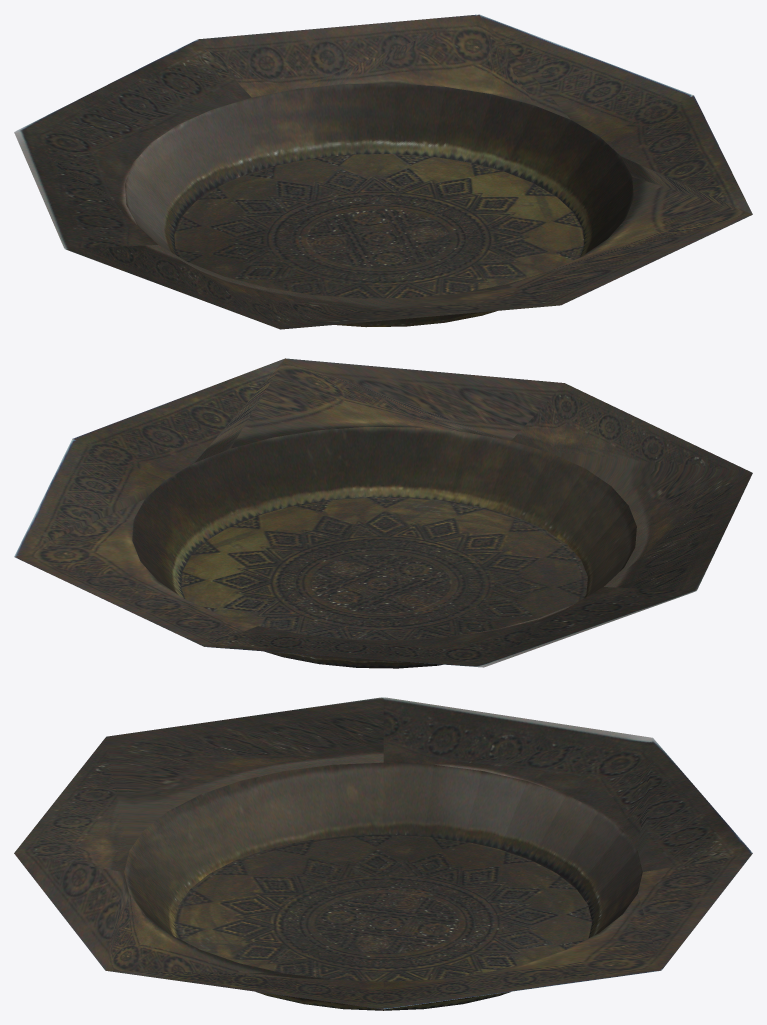
Rendered from assiette2.glb.
3 views of the same model, one above another, from view 1: azimuth 30°, elevation 25°; view 2: azimuth 150°, elevation 25°; view 3: azimuth 270°, elevation 25° (orthographic). The views are drawn at different scales.
Parts seen in each view (by area): view 1: Circle; view 2: Circle; view 3: Circle.
Boxes of the visible parts, bbox=[...] form: Circle: bbox=[14, 14, 752, 329]; Circle: bbox=[14, 358, 752, 668]; Circle: bbox=[14, 697, 752, 1010].
Bounding box in the file's own units: 3.99 × 0.4128 × 3.99.
1 material, 1 textured.
